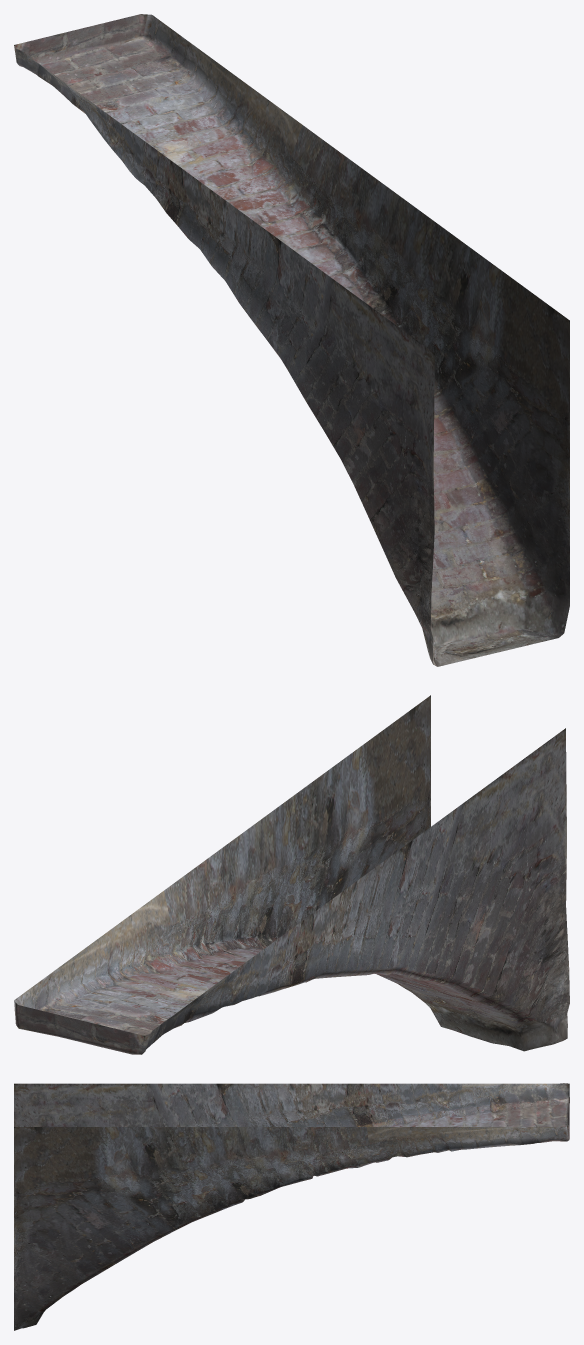
The model's file is SM_CryptArch_01_01.fbx.
3 views of the same model, one above another, from view 1: azimuth 30°, elevation 25°; view 2: azimuth 150°, elevation 25°; view 3: azimuth 270°, elevation 25° (orthographic). The views are drawn at different scales.
Parts seen in each view (by area): view 1: sm_CryptArch_01_01_LOD0; view 2: sm_CryptArch_01_01_LOD0; view 3: sm_CryptArch_01_01_LOD0.
Boxes of the visible parts, x1,y1,x2,y2 form: sm_CryptArch_01_01_LOD0: (14,14,569,666); sm_CryptArch_01_01_LOD0: (14,695,569,1054); sm_CryptArch_01_01_LOD0: (14,1083,569,1330).
Size of the model in its own units: 304 by 58.02 by 126.
